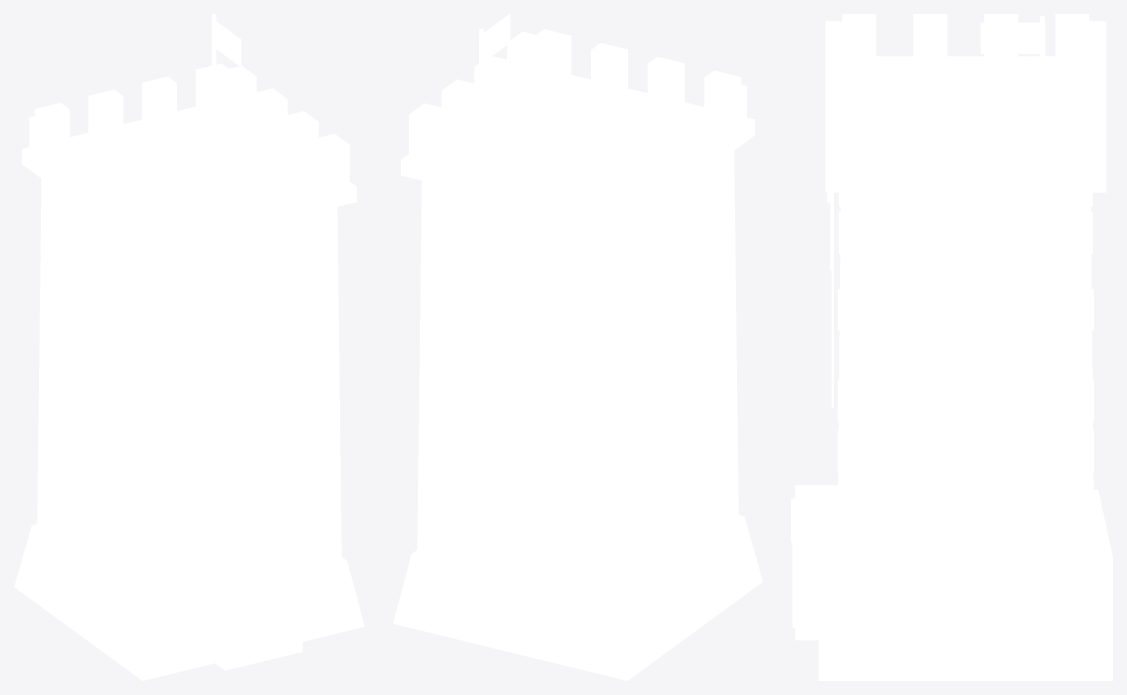
File: aydor_tower.glb
3 views of the same model, side by side, from view 1: azimuth 30°, elevation 25°; view 2: azimuth 150°, elevation 25°; view 3: azimuth 270°, elevation 25° (orthographic). The views are drawn at different scales.
Visible parts, largest first — view 1: aydor_tower; view 2: aydor_tower; view 3: aydor_tower.
Boxes of the visible parts, <box> form: aydor_tower: <box>14,14,364,680</box>; aydor_tower: <box>393,14,762,680</box>; aydor_tower: <box>791,14,1112,680</box>.
Size of the model in its own units: 6.9 by 16.42 by 7.55.
Materials: 1 (1 with a texture image).
